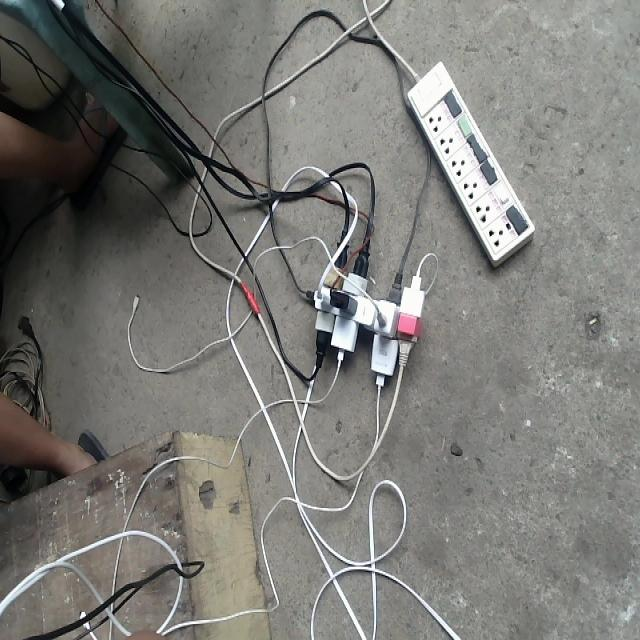-: (304, 244, 425, 385)
